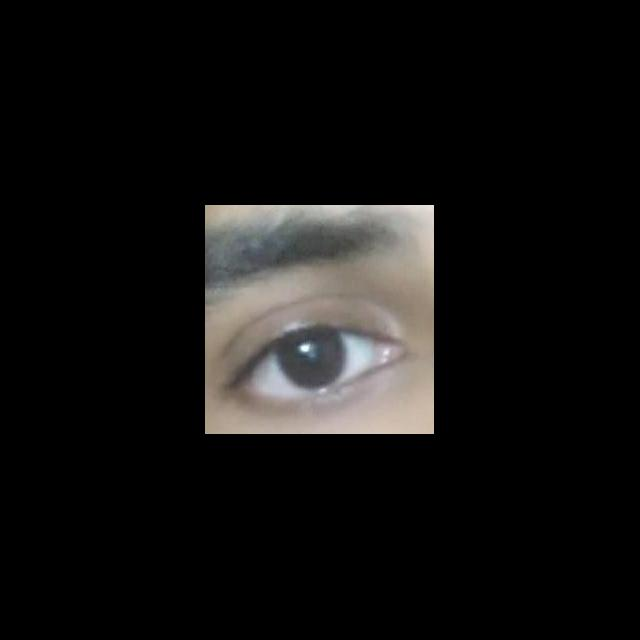eye: (247, 329, 378, 399)
iris: (276, 333, 346, 390)
